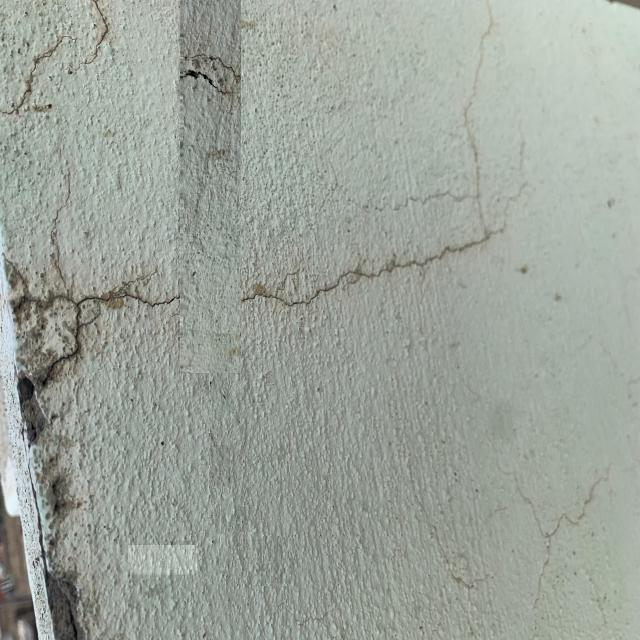diagonal crack: (0, 0, 77, 126), (173, 34, 248, 109), (69, 2, 126, 91)
